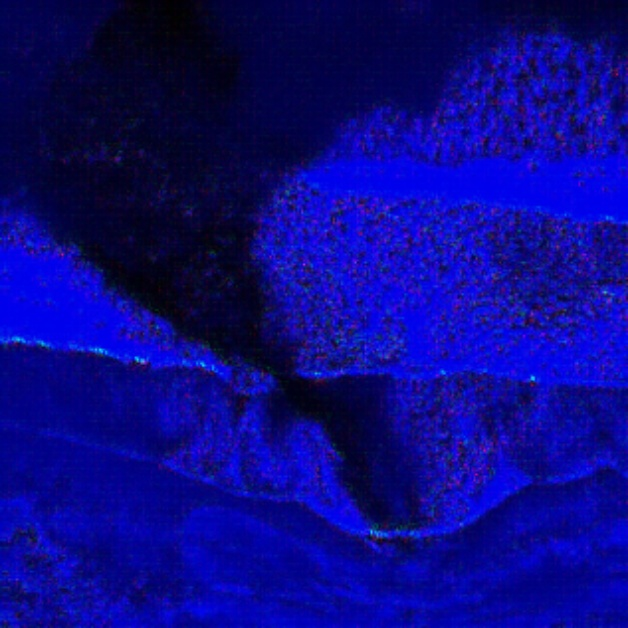rip_current: (39, 33, 438, 512)
